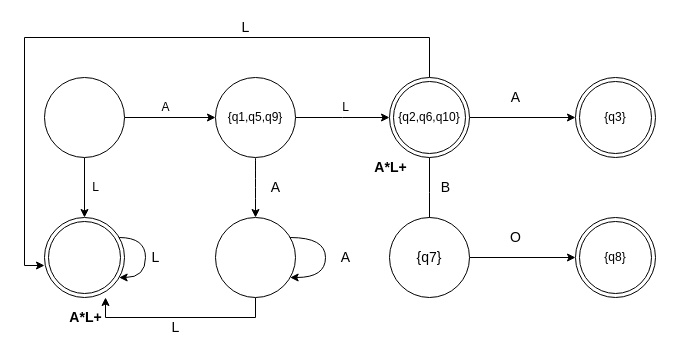
Some shapes in this 673 by 354 pixel diagram are drawn without their labels. The box of each missing label's shape, as (x1, y1, x2, y2) in pixels:
q10: (44, 216, 124, 298)
q9: (214, 216, 296, 298)
{q0,q4,q9}: (44, 76, 124, 158)
